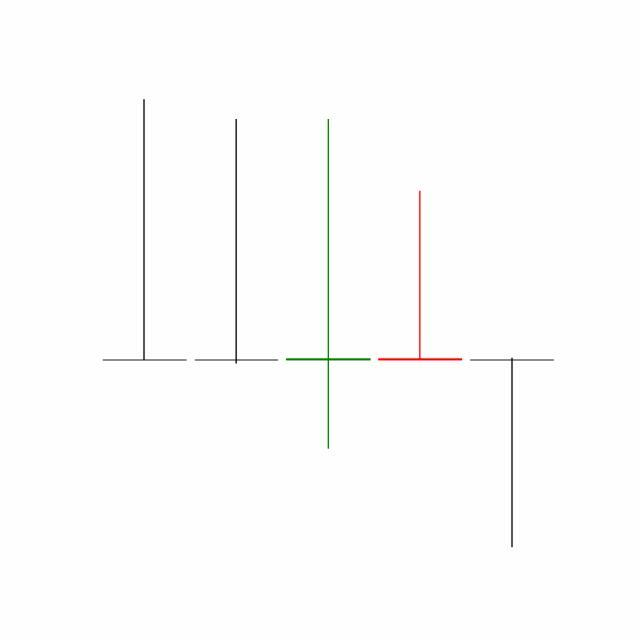Gravestone Doji: (374, 189, 468, 363)
